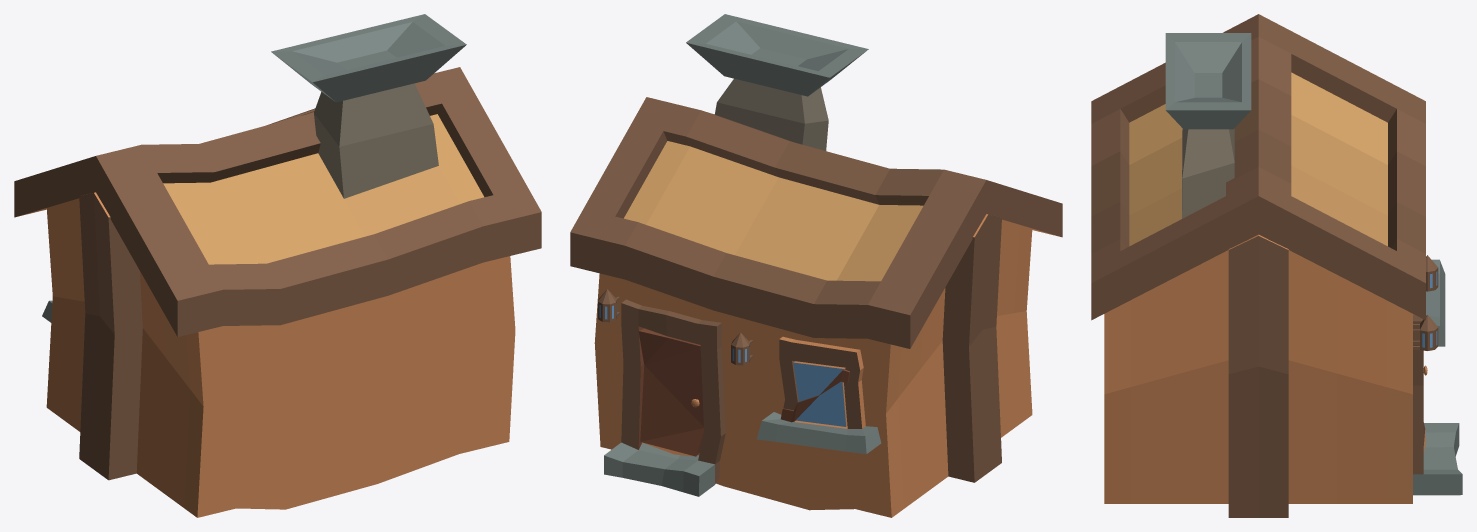
The model's file is C_Casinha2.fbx.
3 renders of one model, left to right at view 1: azimuth 30°, elevation 25°; view 2: azimuth 150°, elevation 25°; view 3: azimuth 270°, elevation 25°, orthographic. The views are drawn at different scales.
Visible parts, largest first — view 1: Cube; view 2: Cube; view 3: Cube.
Part boxes in pixels (x1,y1,x2,y2): Cube: (14,14,541,517); Cube: (570,14,1062,517); Cube: (1091,14,1462,517).
Bounding box in the file's own units: 577 × 576 × 484.
